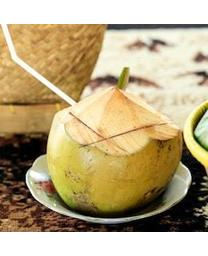coconut: (45, 87, 184, 217)
